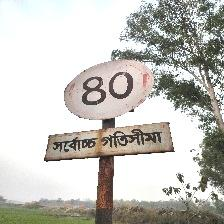Speed-limit: (46, 58, 169, 162)
